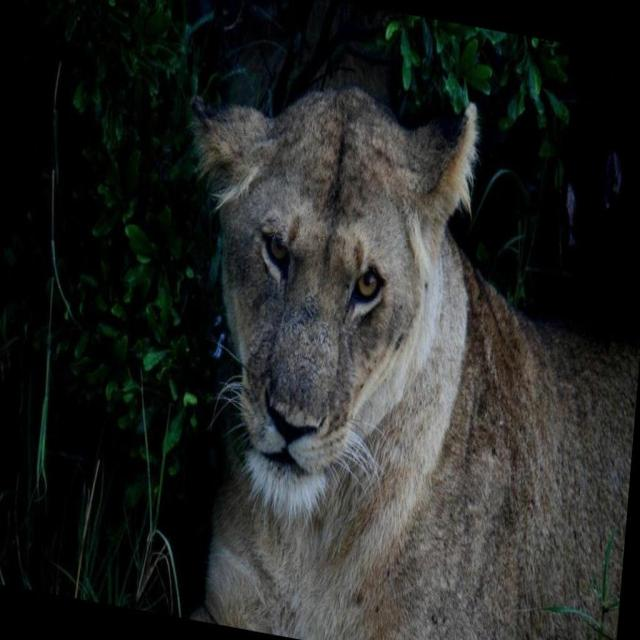Lion: (148, 50, 640, 639)
